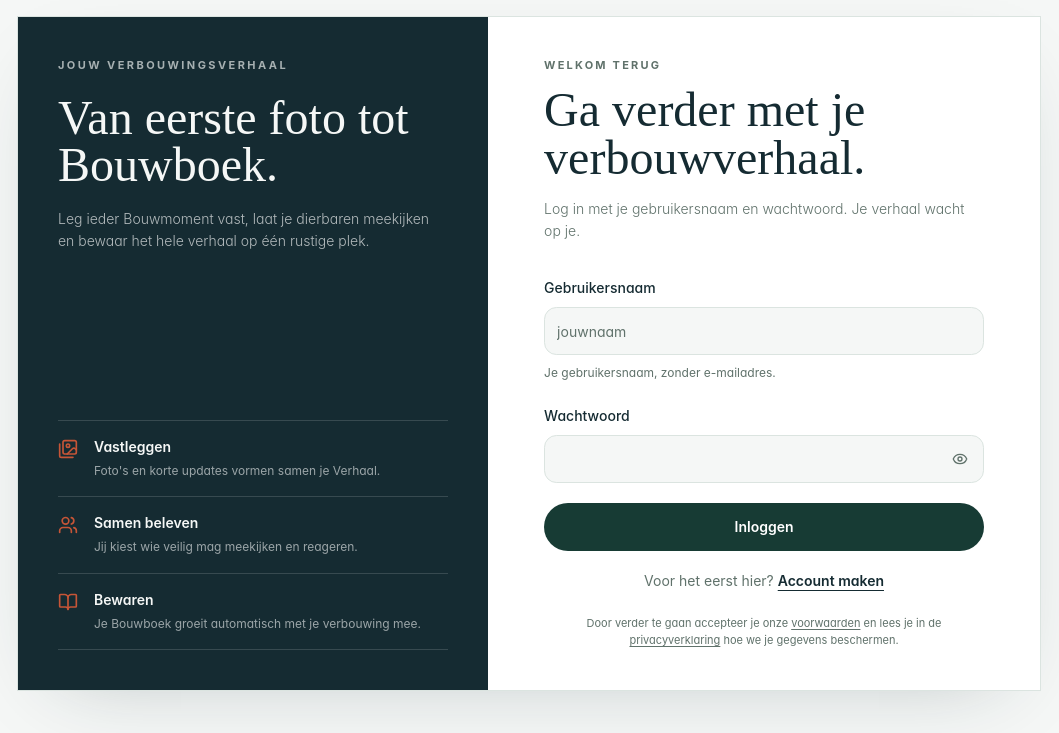
it: username/password auth page › lets the user show and hide the password without submitting
Type "bouw-eigenaar" into the field labelled "Gebruikersnaam" at (764, 331), box top-left (544, 307), bottom-right (984, 355)
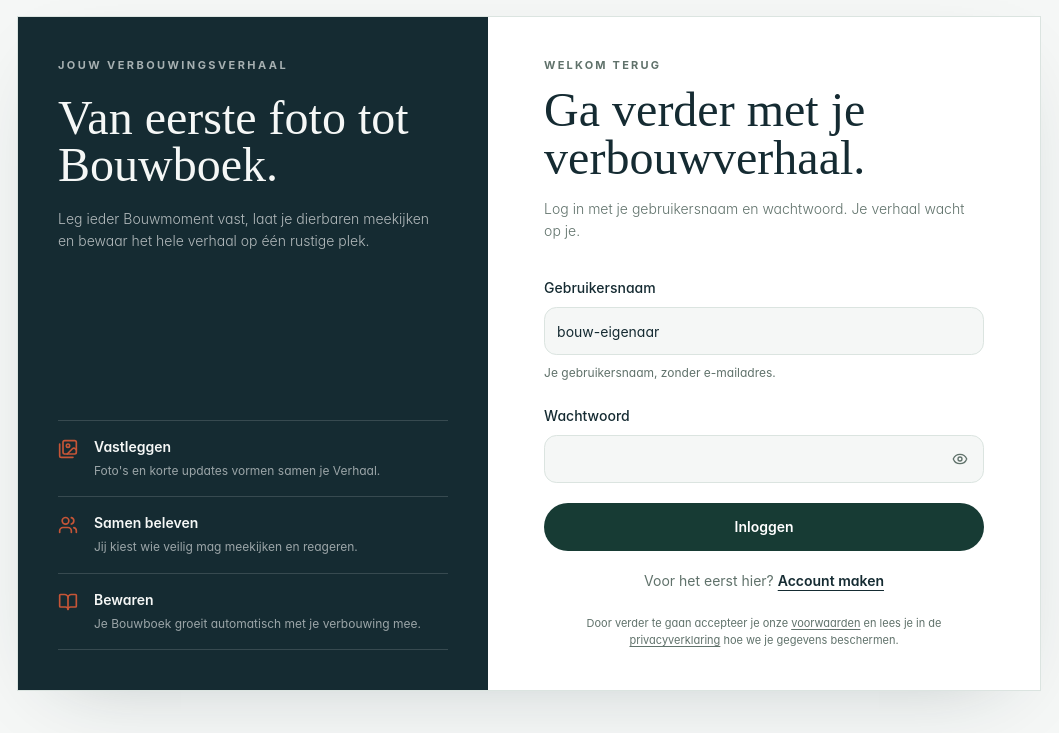
Type "Bouw!dag27" into the password field labelled "Wachtwoord" at (764, 458), box top-left (544, 434), bottom-right (984, 482)
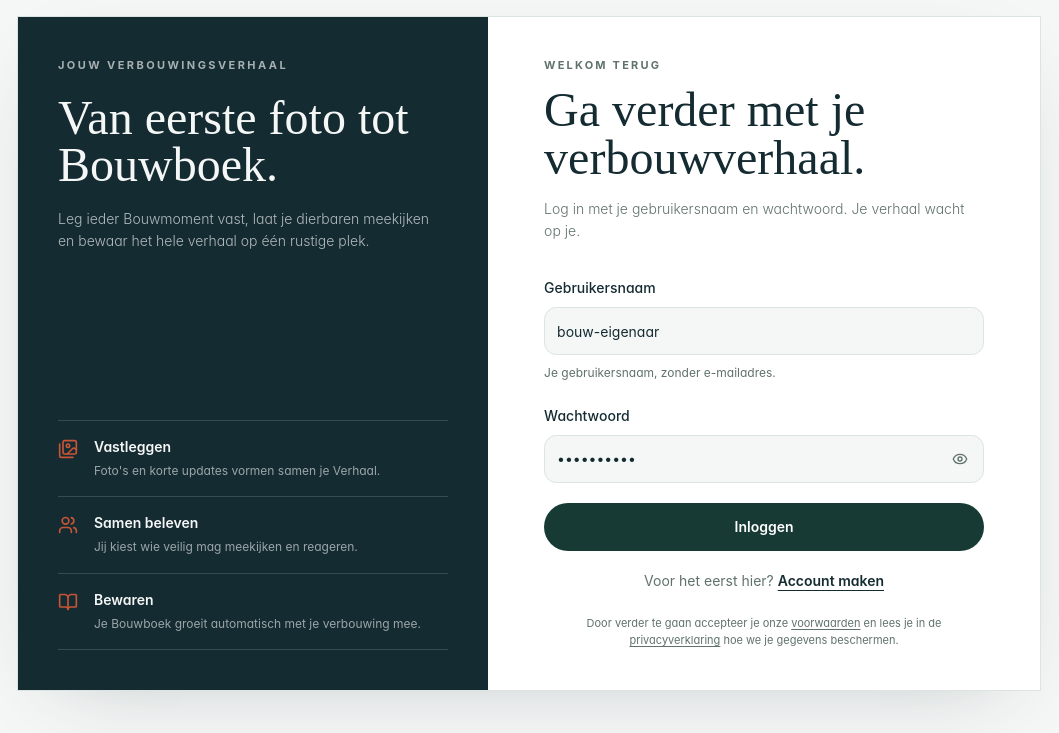
Click the button named "Wachtwoord tonen" at (960, 458), box top-left (936, 434), bottom-right (984, 482)
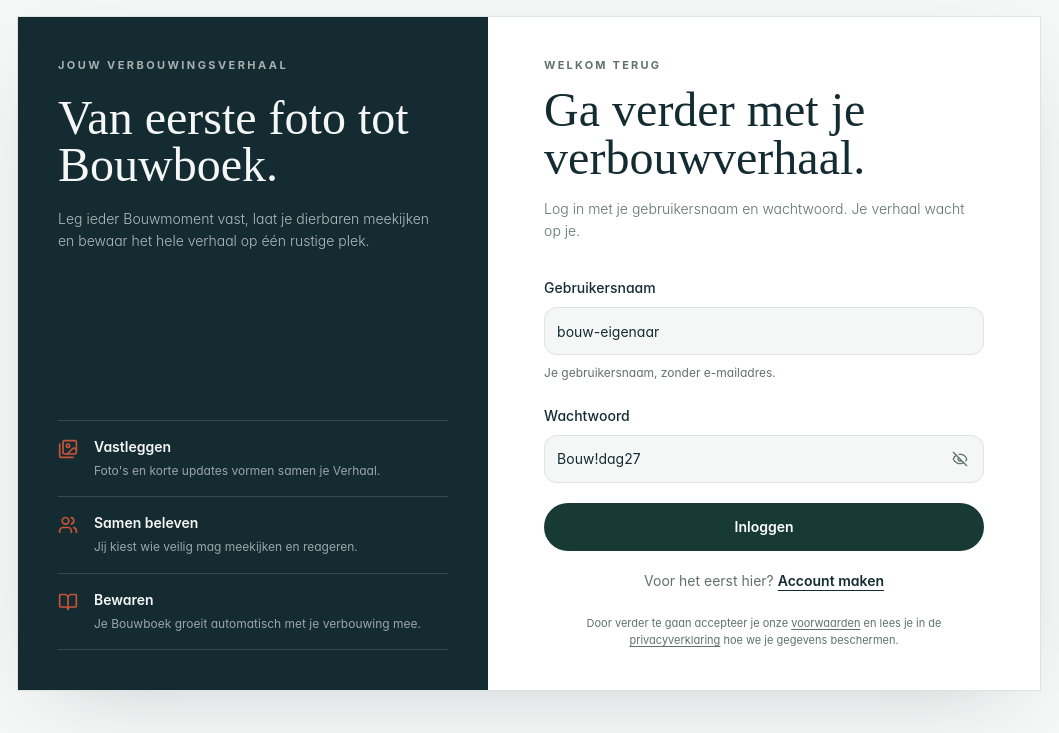
Result: the field labelled "Wachtwoord" shows its text at top-left (544, 434), bottom-right (984, 482)
Click the button named "Wachtwoord verbergen" at (960, 458), box top-left (936, 434), bottom-right (984, 482)
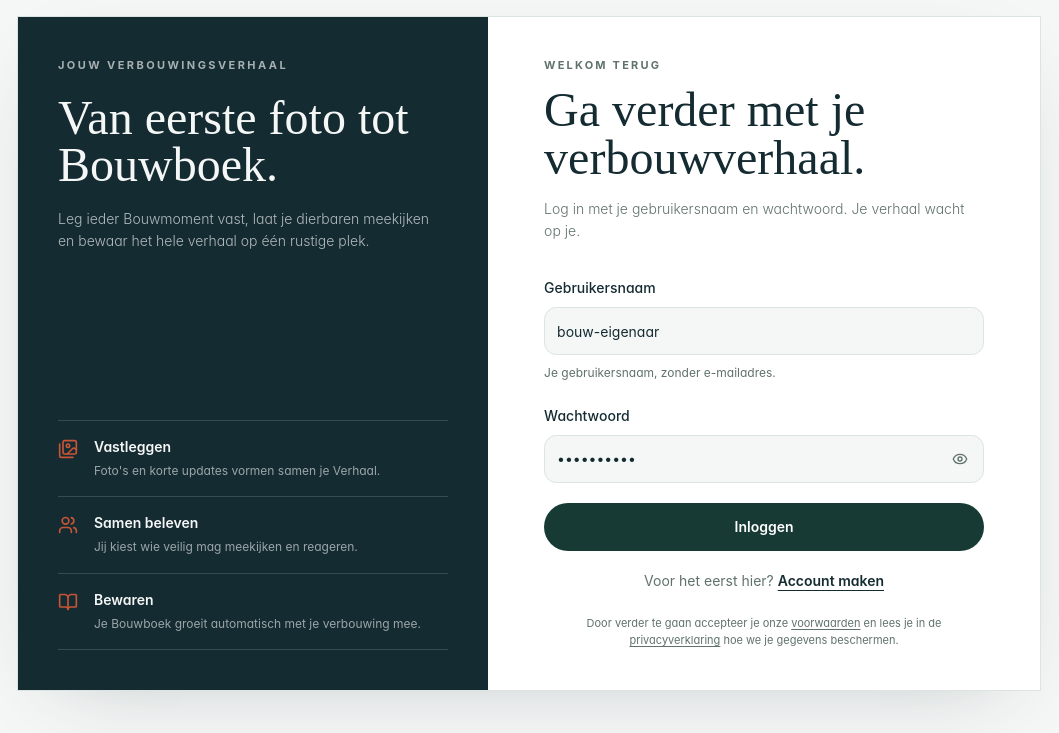
Result: the password field labelled "Wachtwoord" hides its text at top-left (544, 434), bottom-right (984, 482)
